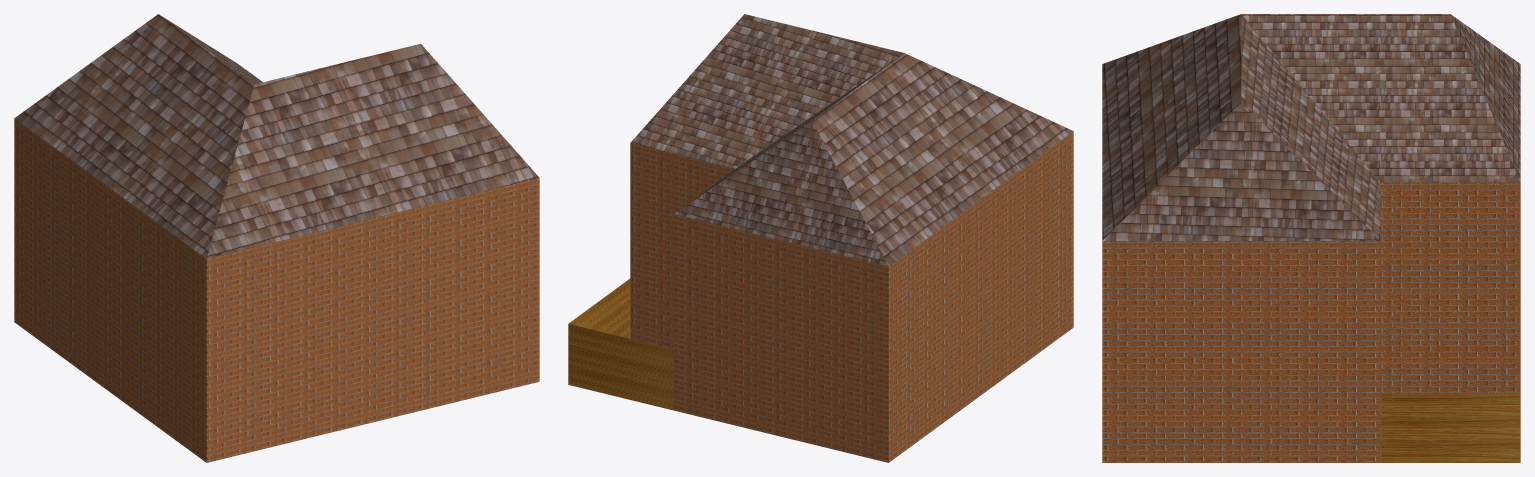
3 renders of one model, left to right at view 1: azimuth 30°, elevation 25°; view 2: azimuth 150°, elevation 25°; view 3: azimuth 270°, elevation 25°, orthographic. The views are drawn at different scales.
Visible parts, largest first — view 1: B2; view 2: B2; view 3: B2.
Boxes of the visible parts, box(x1,y1,x2,y2) form: B2: box(14, 14, 539, 462); B2: box(568, 14, 1073, 462); B2: box(1102, 14, 1520, 462).
Size of the model in its own units: 10.99 by 9.61 by 10.99.
3 materials, 3 textured.
